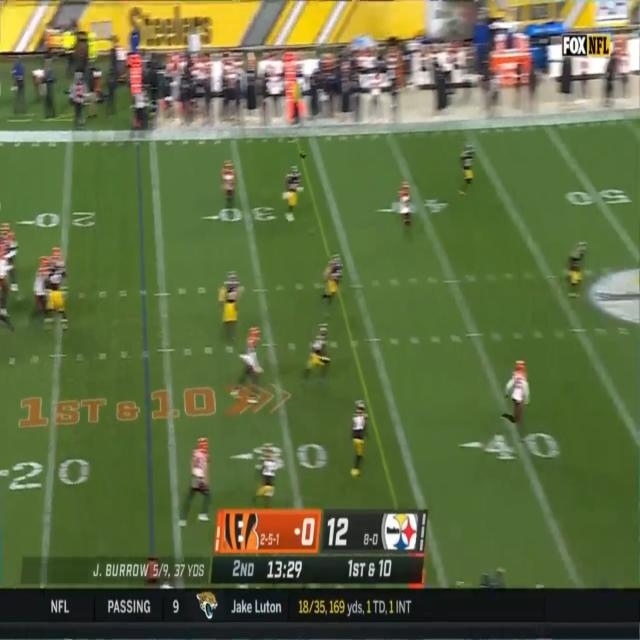Ball: (299, 150, 307, 158)
